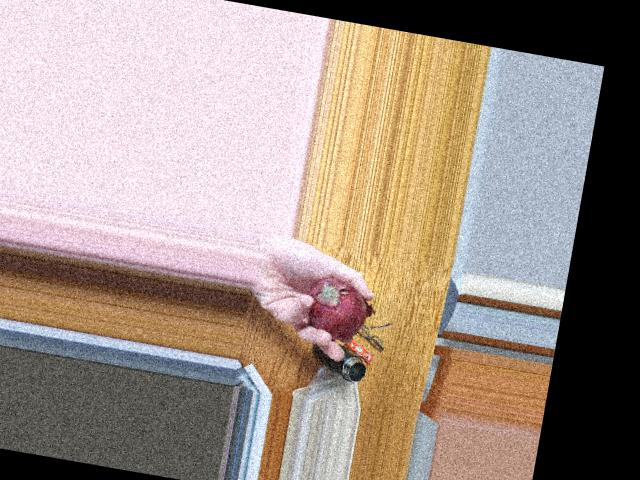onion: (303, 273, 365, 337)
